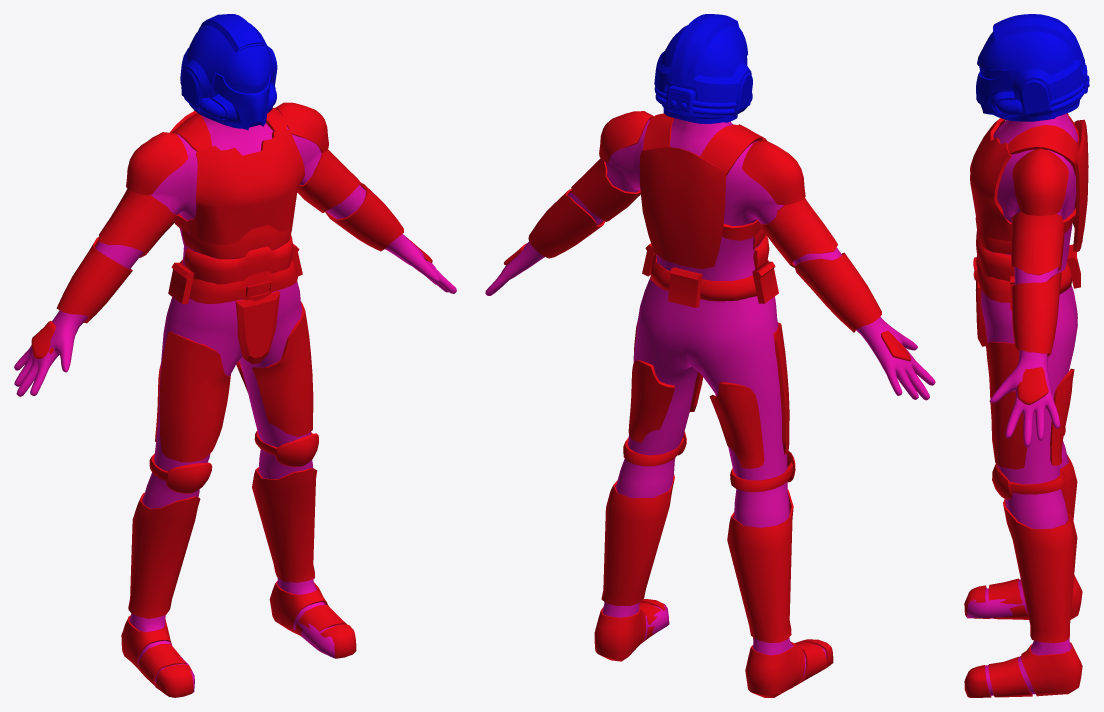
The model's file is Character.fbx.
3 views of the same model, side by side, from view 1: azimuth 30°, elevation 25°; view 2: azimuth 150°, elevation 25°; view 3: azimuth 270°, elevation 25° (orthographic).
Parts seen in each view (by area): view 1: Body, ChestPlate, Helmet, ThighPlate.R, ShinPlate.R, ShinPlate.L, ThighPlate.L, Belt, Shoe.R, UpperArmPlate.R, ArmPlate.R, Shoe.L (+7 smaller); view 2: Body, ChestPlate, Helmet, ShinPlate.R, ShinPlate.L, ThighPlate.R, Belt, ArmPlate.R, Shoe.R, UpperArmPlate.R, ThighPlate.L, ArmPlate.L (+6 smaller); view 3: Body, Helmet, ChestPlate, ShinPlate.L, ThighPlate.L, Shoe.L, ArmPlate.L, ShoulderPlate.L, UpperArmPlate.L, Shoe.R, Belt, KneePlate.L (+3 smaller).
Part boxes in pixels (x1=…): Body: x1=14, y1=115, x2=456, y2=692; ChestPlate: x1=170, y1=108, x2=304, y2=284; Helmet: x1=180, y1=14, x2=277, y2=130; ThighPlate.R: x1=155, y1=331, x2=230, y2=462; ShinPlate.R: x1=128, y1=492, x2=200, y2=618; ShinPlate.L: x1=252, y1=467, x2=317, y2=582; ThighPlate.L: x1=236, y1=302, x2=313, y2=436; Belt: x1=168, y1=244, x2=302, y2=303; Shoe.R: x1=121, y1=615, x2=193, y2=697; UpperArmPlate.R: x1=98, y1=189, x2=179, y2=257; ArmPlate.R: x1=56, y1=237, x2=132, y2=323; Shoe.L: x1=269, y1=581, x2=356, y2=658; Body: x1=485, y1=118, x2=935, y2=677; ChestPlate: x1=639, y1=113, x2=769, y2=269; Helmet: x1=654, y1=14, x2=752, y2=123; ShinPlate.R: x1=727, y1=489, x2=793, y2=642; ShinPlate.L: x1=601, y1=474, x2=674, y2=606; ThighPlate.R: x1=709, y1=322, x2=789, y2=468; Belt: x1=642, y1=243, x2=778, y2=307; ArmPlate.R: x1=794, y1=252, x2=881, y2=332; Shoe.R: x1=745, y1=639, x2=833, y2=697; UpperArmPlate.R: x1=759, y1=198, x2=837, y2=267; ThighPlate.L: x1=628, y1=321, x2=703, y2=443; ArmPlate.L: x1=528, y1=189, x2=605, y2=258; Body: x1=967, y1=113, x2=1078, y2=695; Helmet: x1=976, y1=14, x2=1089, y2=121; ChestPlate: x1=970, y1=114, x2=1088, y2=281; ShinPlate.L: x1=1003, y1=499, x2=1077, y2=643; ThighPlate.L: x1=986, y1=341, x2=1074, y2=469; Shoe.L: x1=964, y1=642, x2=1082, y2=697; ArmPlate.L: x1=1011, y1=272, x2=1061, y2=356; ShoulderPlate.L: x1=1012, y1=148, x2=1068, y2=215; UpperArmPlate.L: x1=1011, y1=211, x2=1064, y2=275; Shoe.R: x1=964, y1=575, x2=1082, y2=619; Belt: x1=973, y1=244, x2=1080, y2=310; KneePlate.L: x1=992, y1=463, x2=1065, y2=499.
Size of the model in its own units: 133 by 187 by 33.18.
